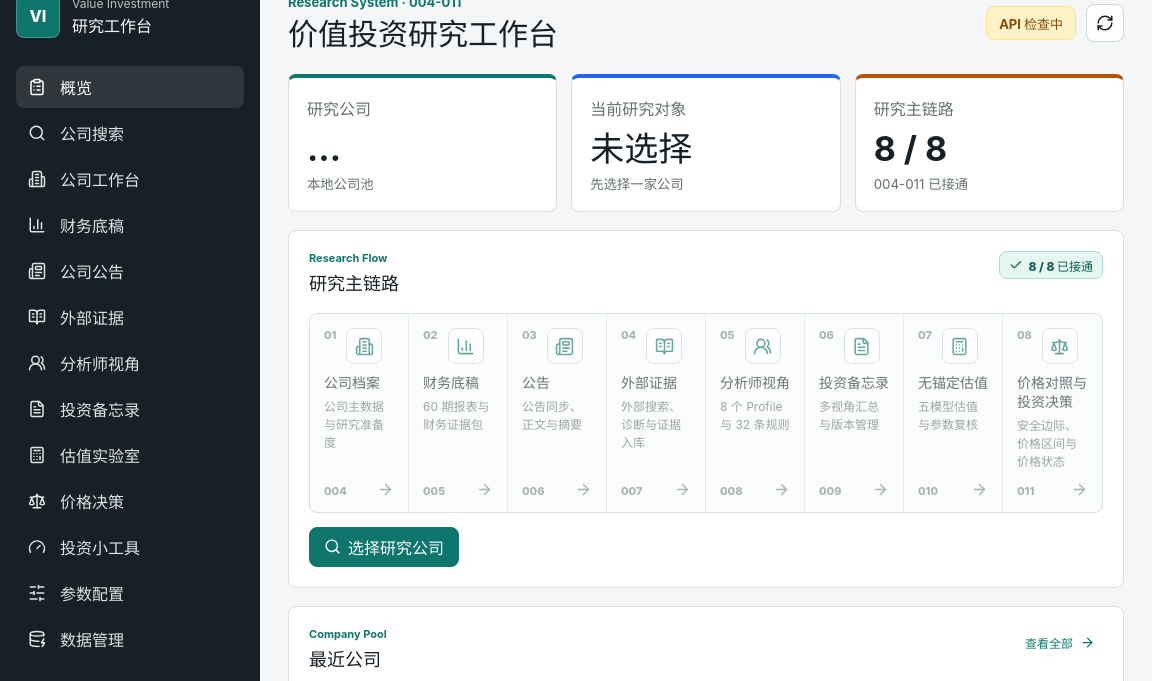
Scenario: App › generates and deletes investment memo history from the memo panel
Step 1. Click the button "公司搜索" → click(130, 133), box [16,112,244,154]
(page scrolled)
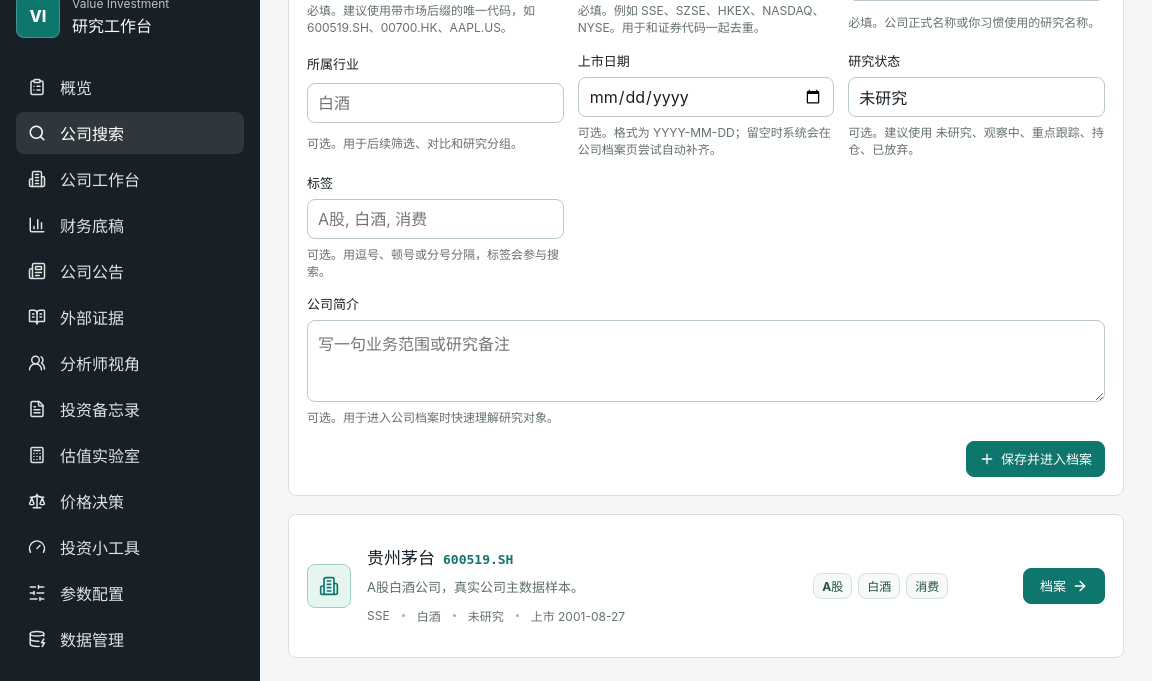
Now the heading "贵州茅台" is shown, box [367,547,435,570]
Step 2. Click the button "档案" → click(1064, 586), box [1023,568,1105,604]
(page scrolled)
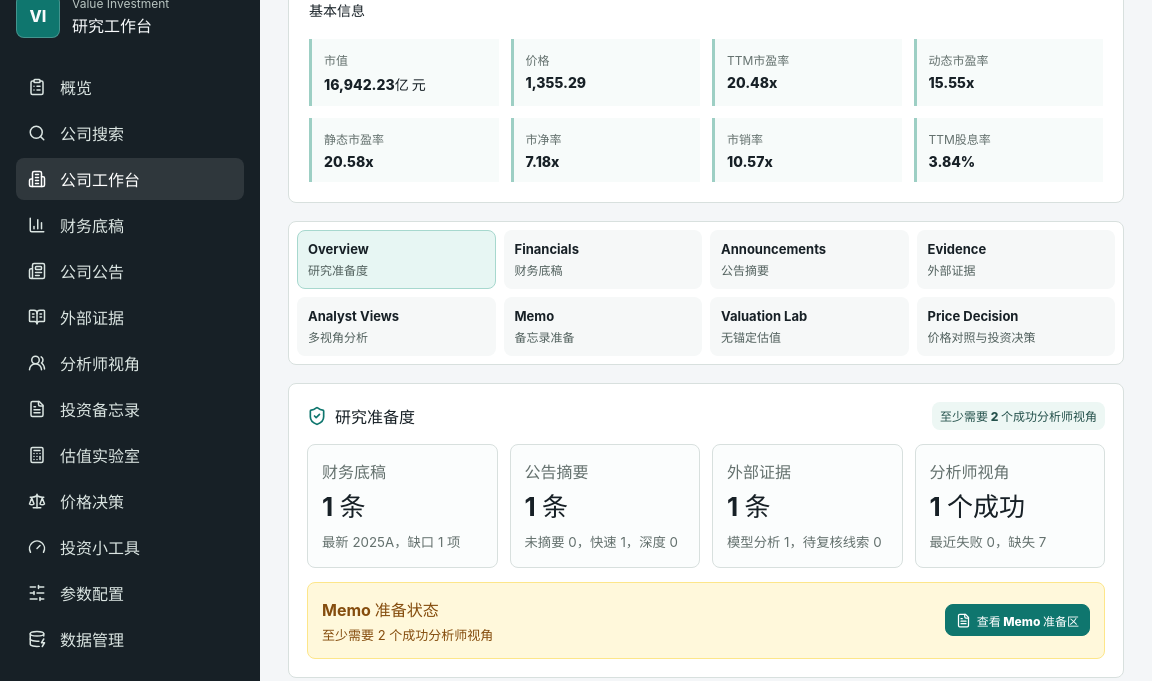
Step 3. Click the button "Memo 备忘录准备" → click(603, 326), box [504,297,702,356]
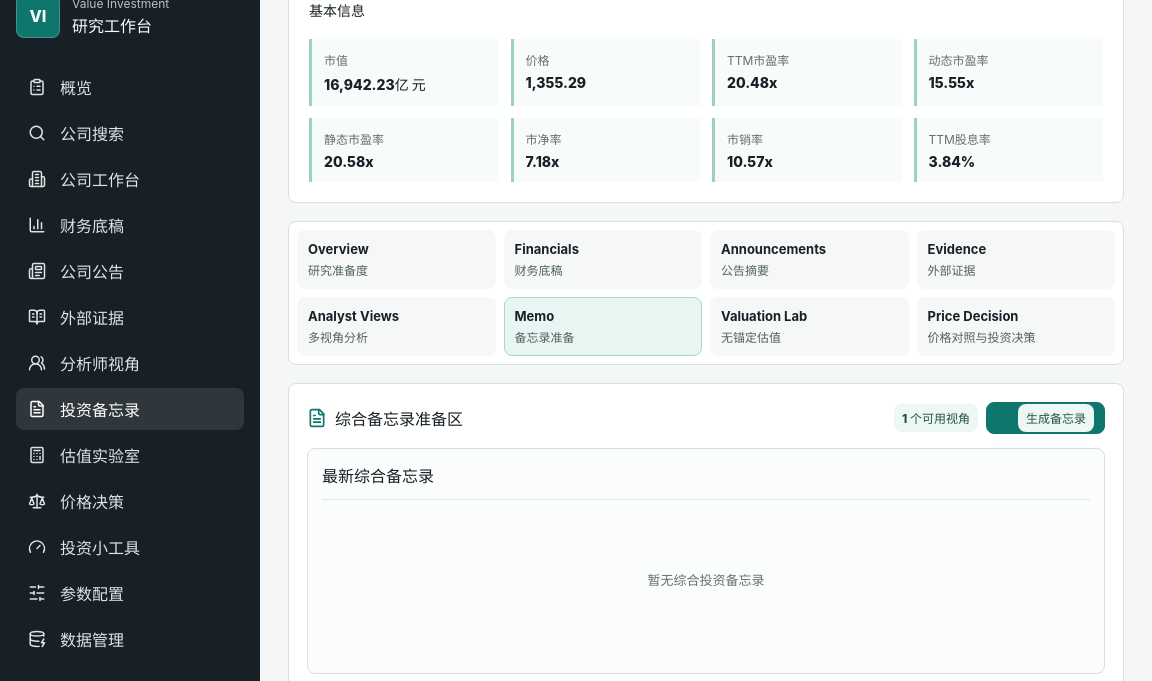
Now the text "暂无综合投资备忘录" is shown, box [322,499,1090,659]
Step 4. Click the button "生成备忘录" → click(1046, 418), box [986,402,1105,434]
(page scrolled)
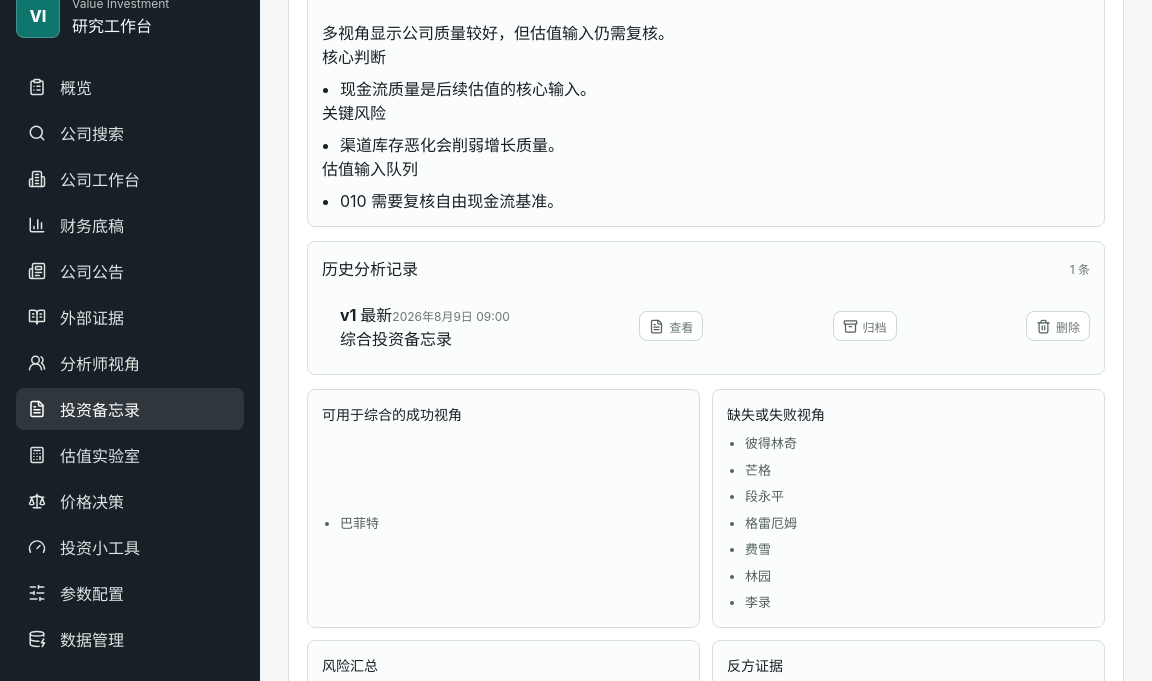
Expected: the text "状态" is not shown
Now the text "历史分析记录" is shown, box [322,256,418,280]
Now the text "多视角显示公司质量较好，但估值输入仍需复核。" is shown, box [322,23,674,43]
Step 5. Click the button with aria-label "查看备忘录 v1" → click(671, 326), box [639,311,703,341]
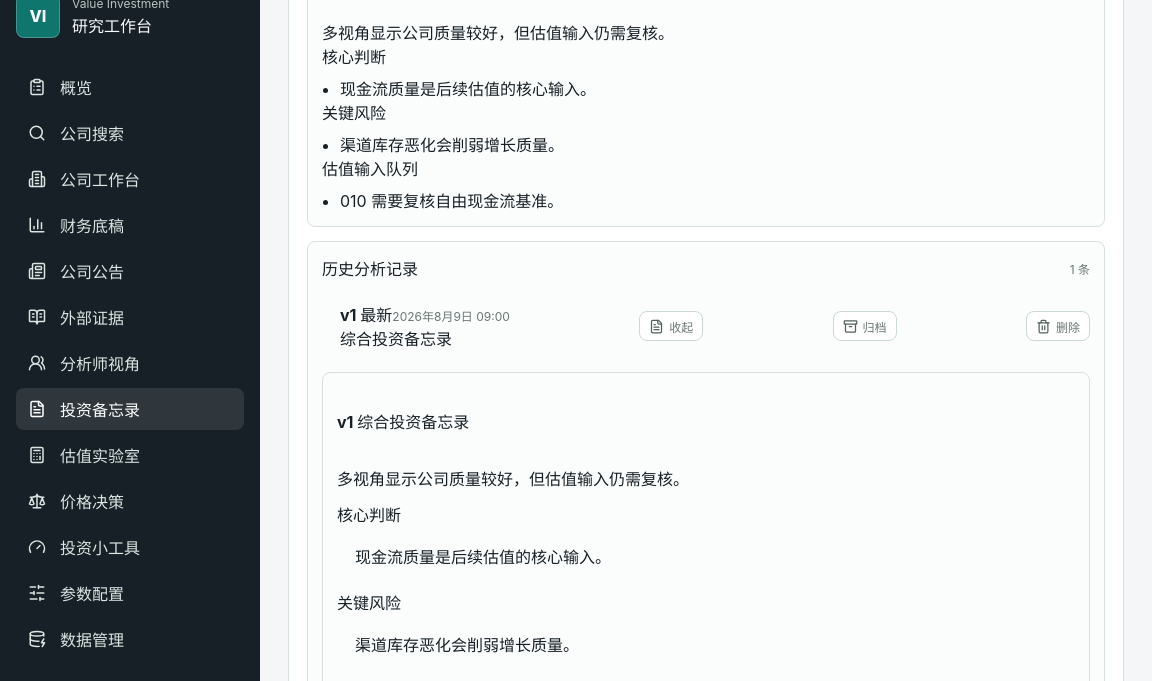
Now the heading "v1 综合投资备忘录" is shown, box [337,412,469,432]
Step 6. Click the button with aria-label "删除备忘录 v1" → click(1058, 326), box [1026,311,1090,341]
(page scrolled)
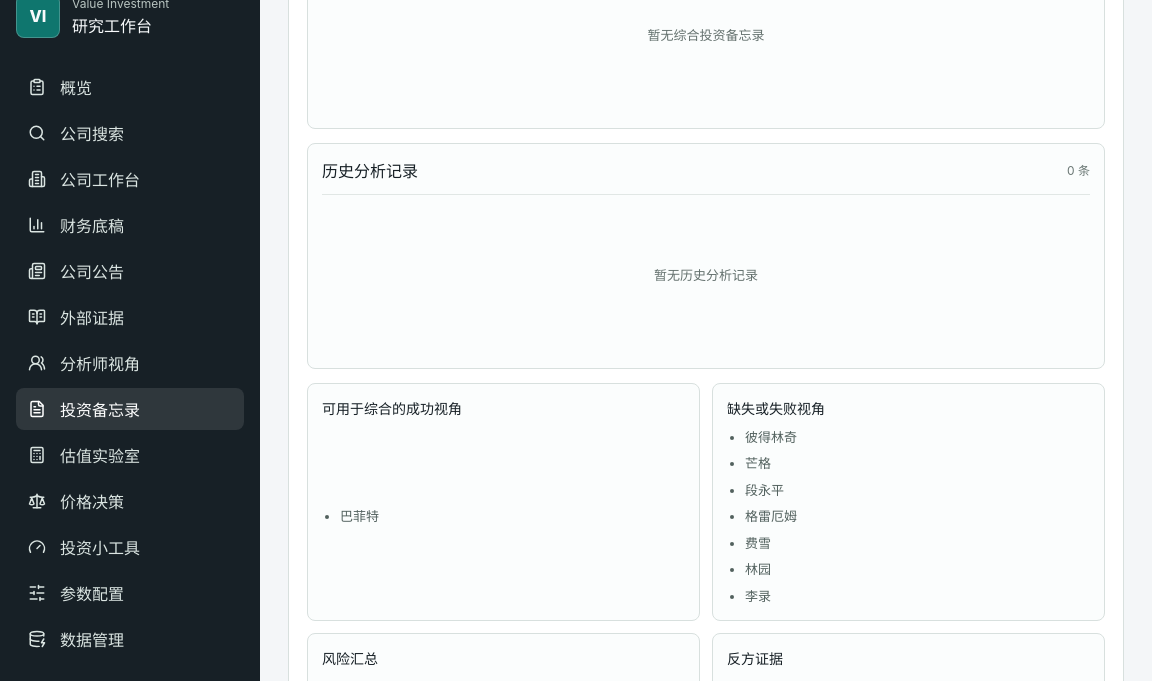
Now the text "暂无历史分析记录" is shown, box [322,194,1090,354]
